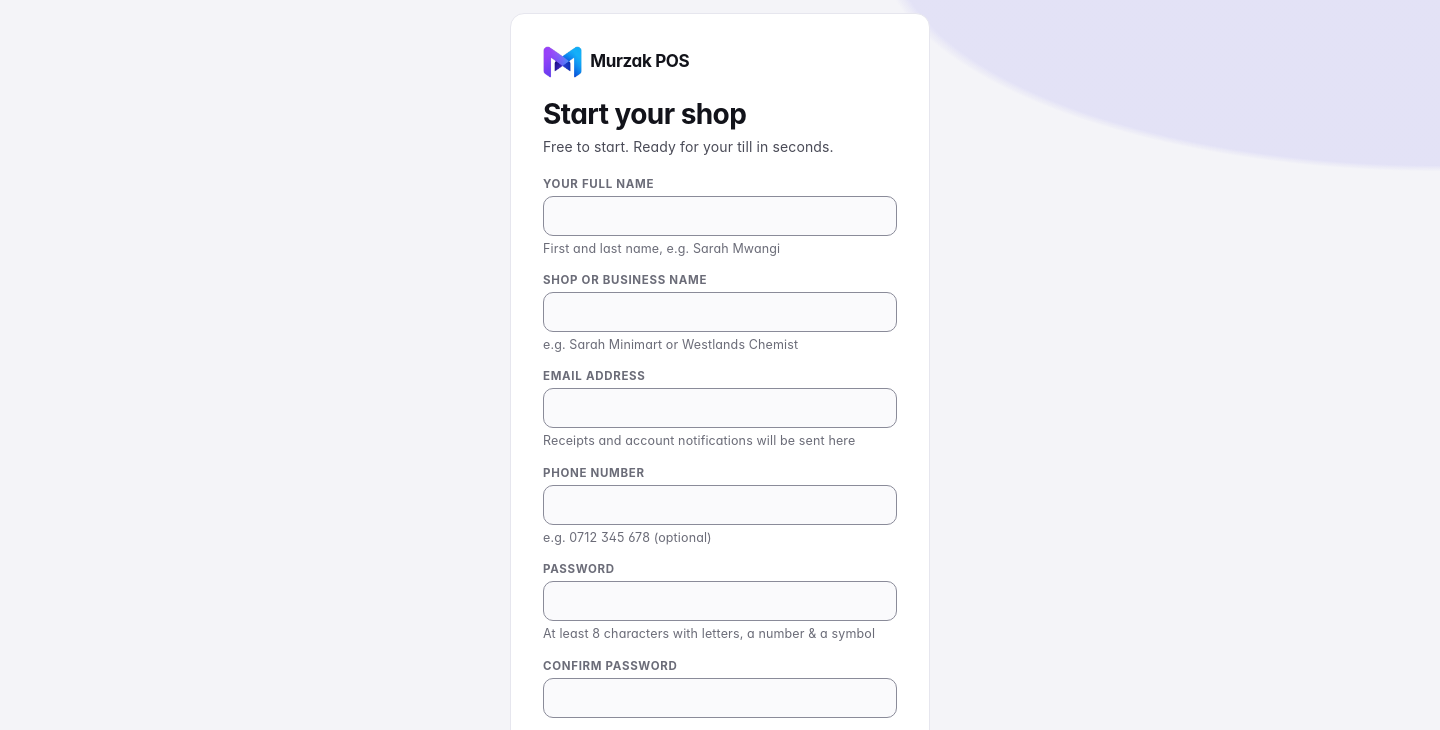
Test: SignUpPage › validates password match
In the field labelled "Your full name": [720, 216] box [544, 196, 896, 234], type "Grace Hopper"
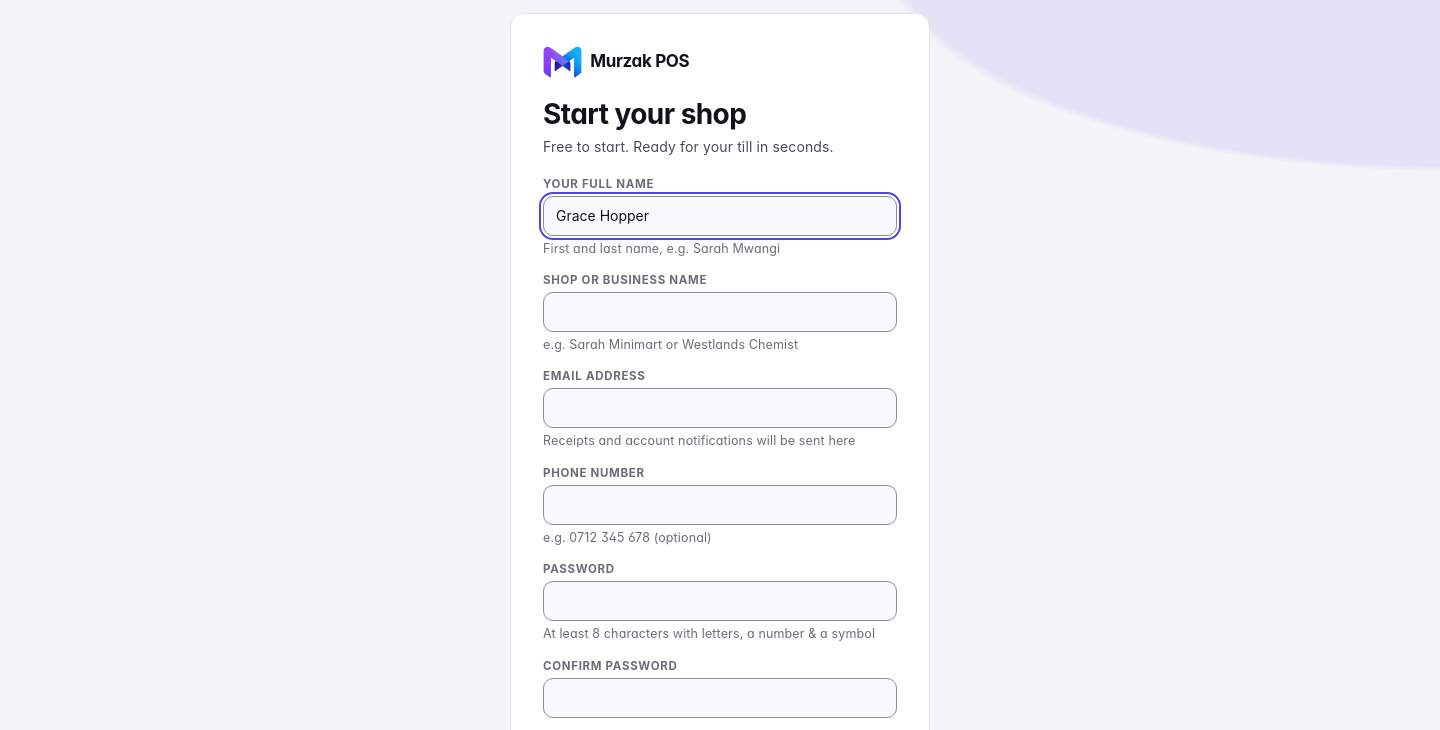
In the field labelled "Shop or business name": [720, 312] box [544, 293, 896, 331], type "Grace Tech"
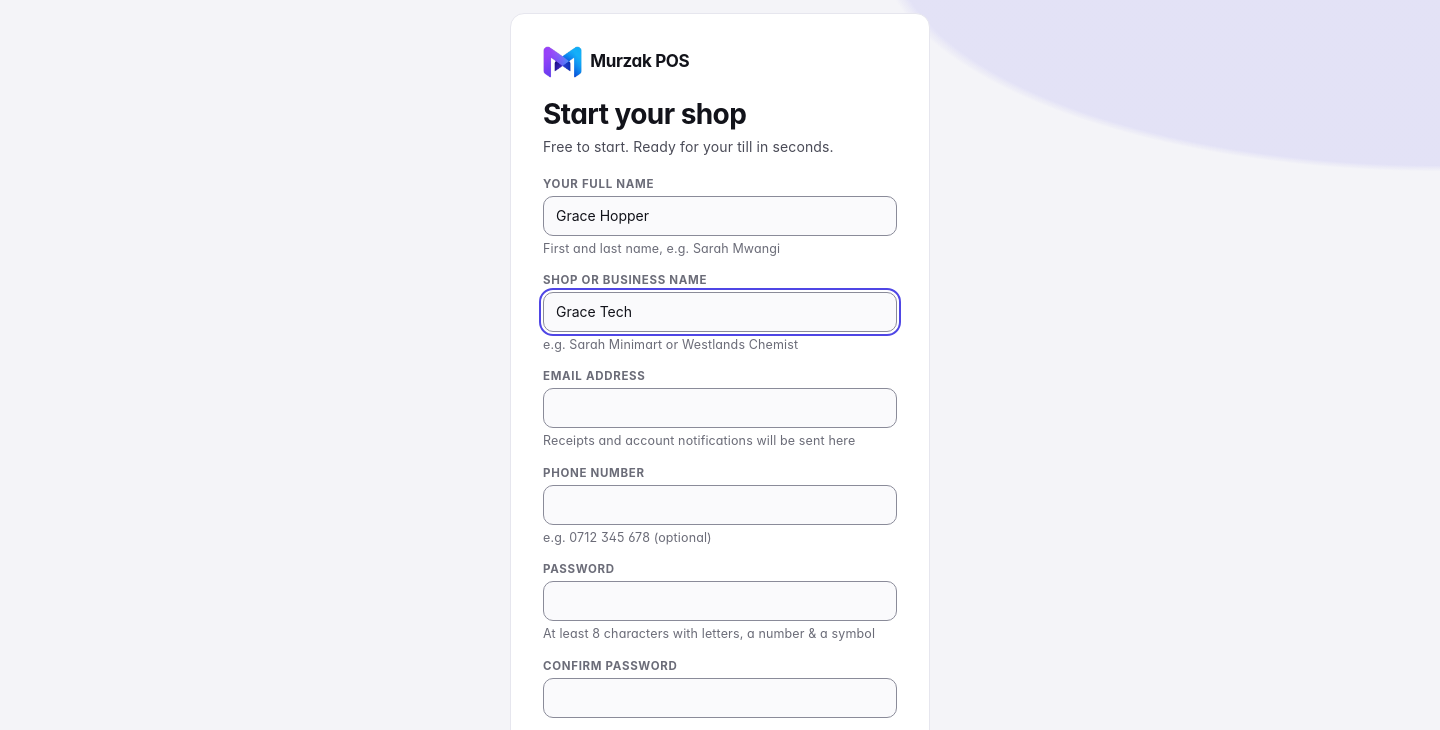
In the field labelled "Email address": [720, 408] box [544, 389, 896, 427], type "grace@example.com"
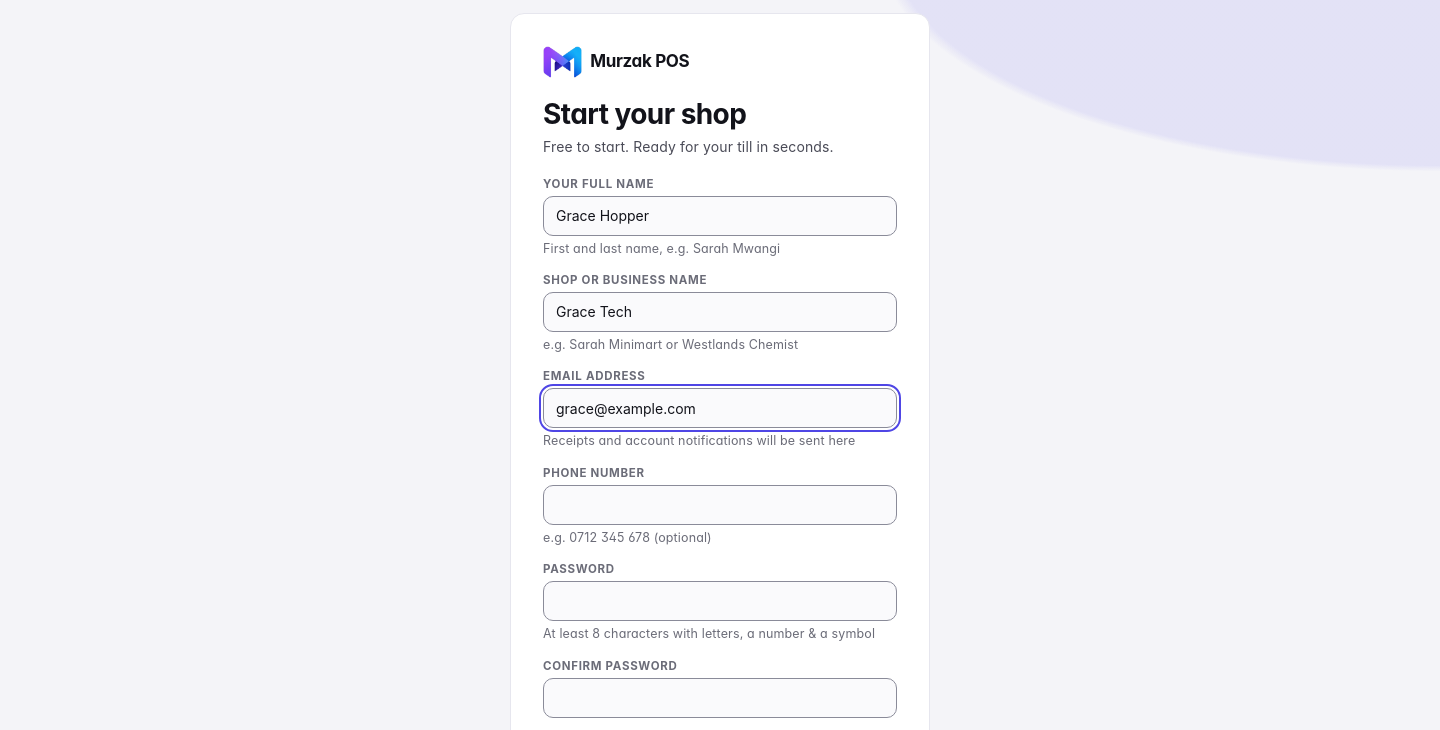
In the password field labelled "Password": [720, 601] box [544, 582, 896, 620], type "Secret123!"
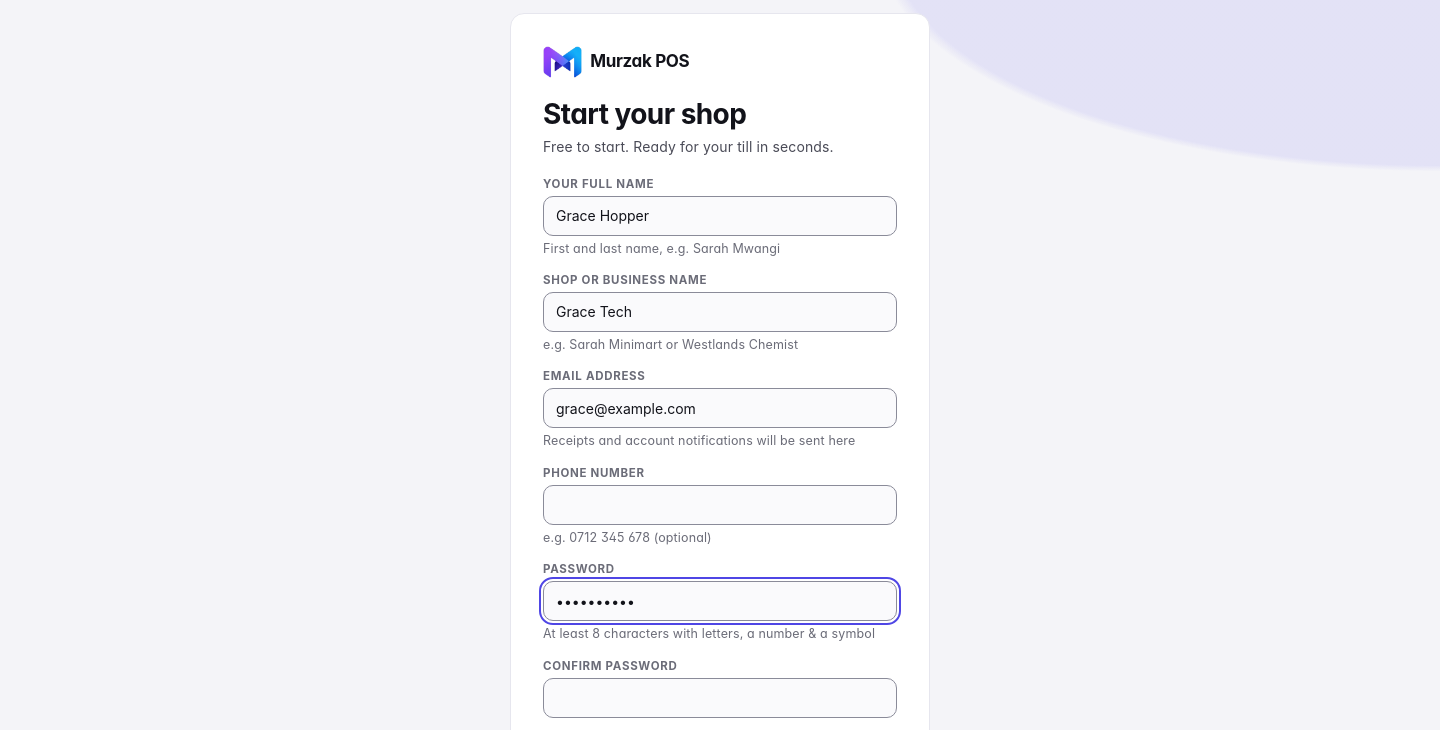
In the password field labelled "Confirm password": [720, 698] box [544, 679, 896, 717], type "Secret456!"
(page scrolled)
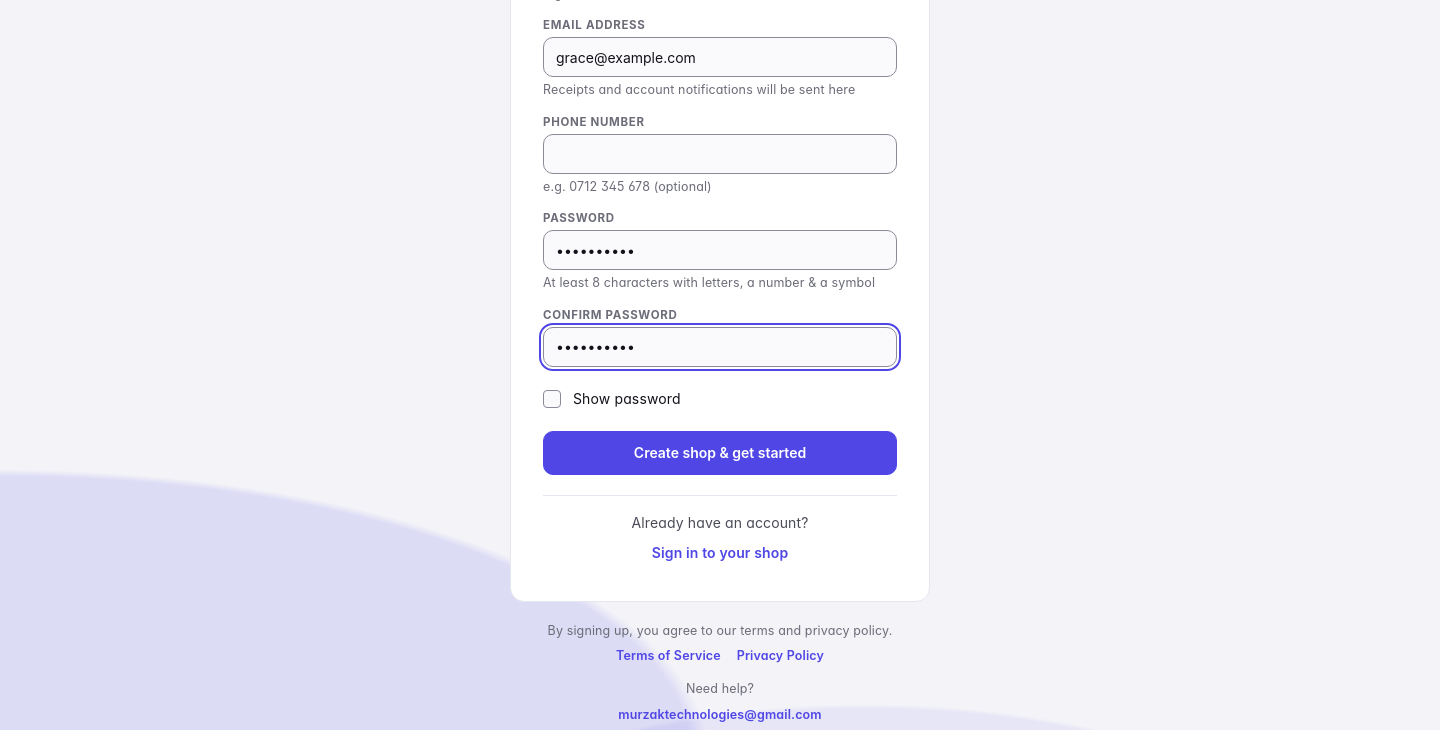
Click the button "Create shop & get started": [720, 453] box [543, 431, 897, 475]
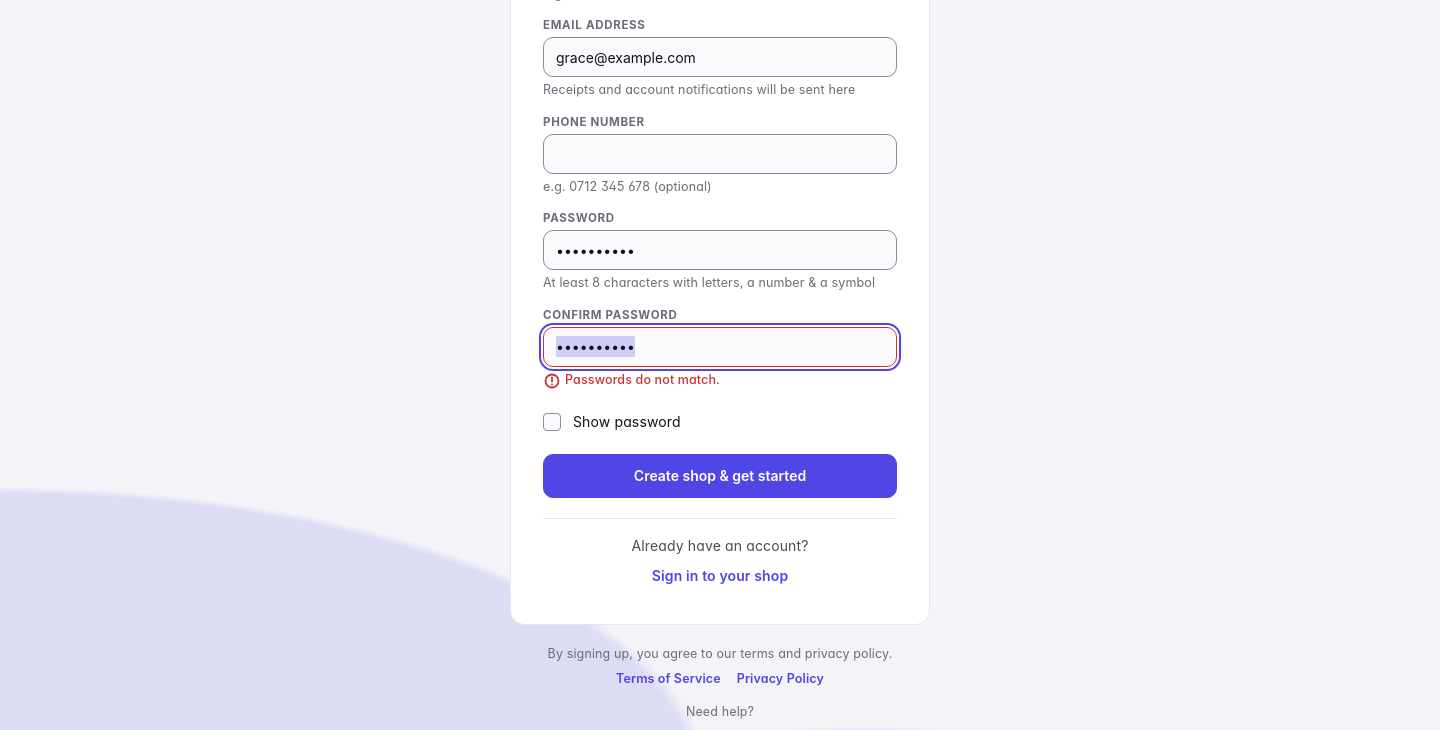
Check: the text "Passwords do not match." is shown, box [565, 371, 720, 388]
